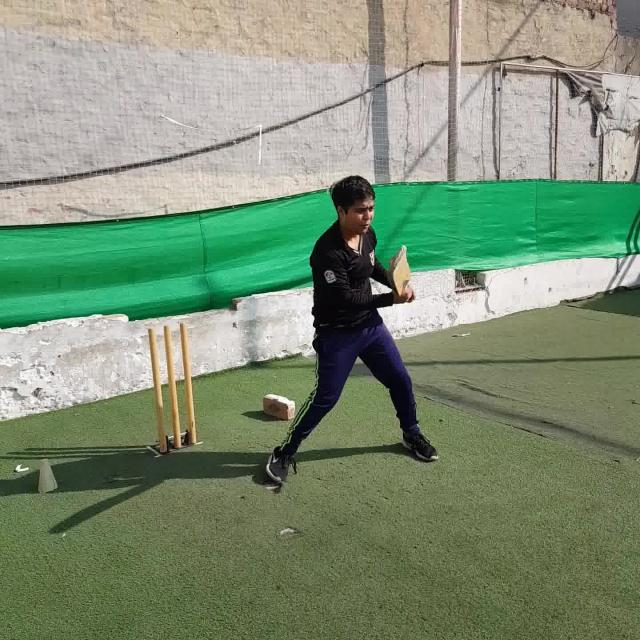bat: (388, 246, 416, 304)
